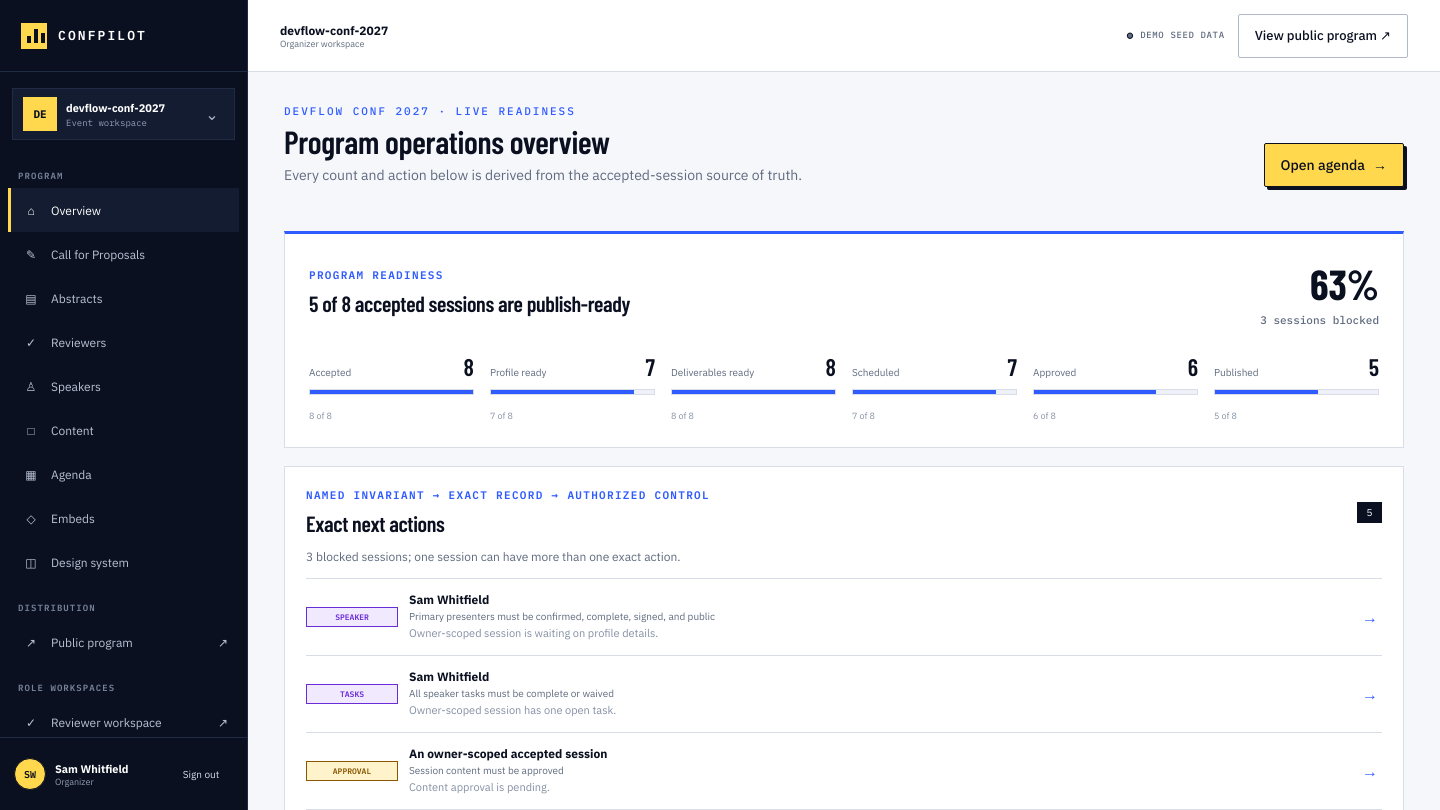
Test: ConfPilot Phase 0 shell › keeps the organizer shell mounted when a sidebar link changes the content panel
Expected: the heading "Program operations overview" is shown, [284, 122, 610, 160]
Click the link "▦ Agenda" at (58,474), box [25, 466, 92, 482]
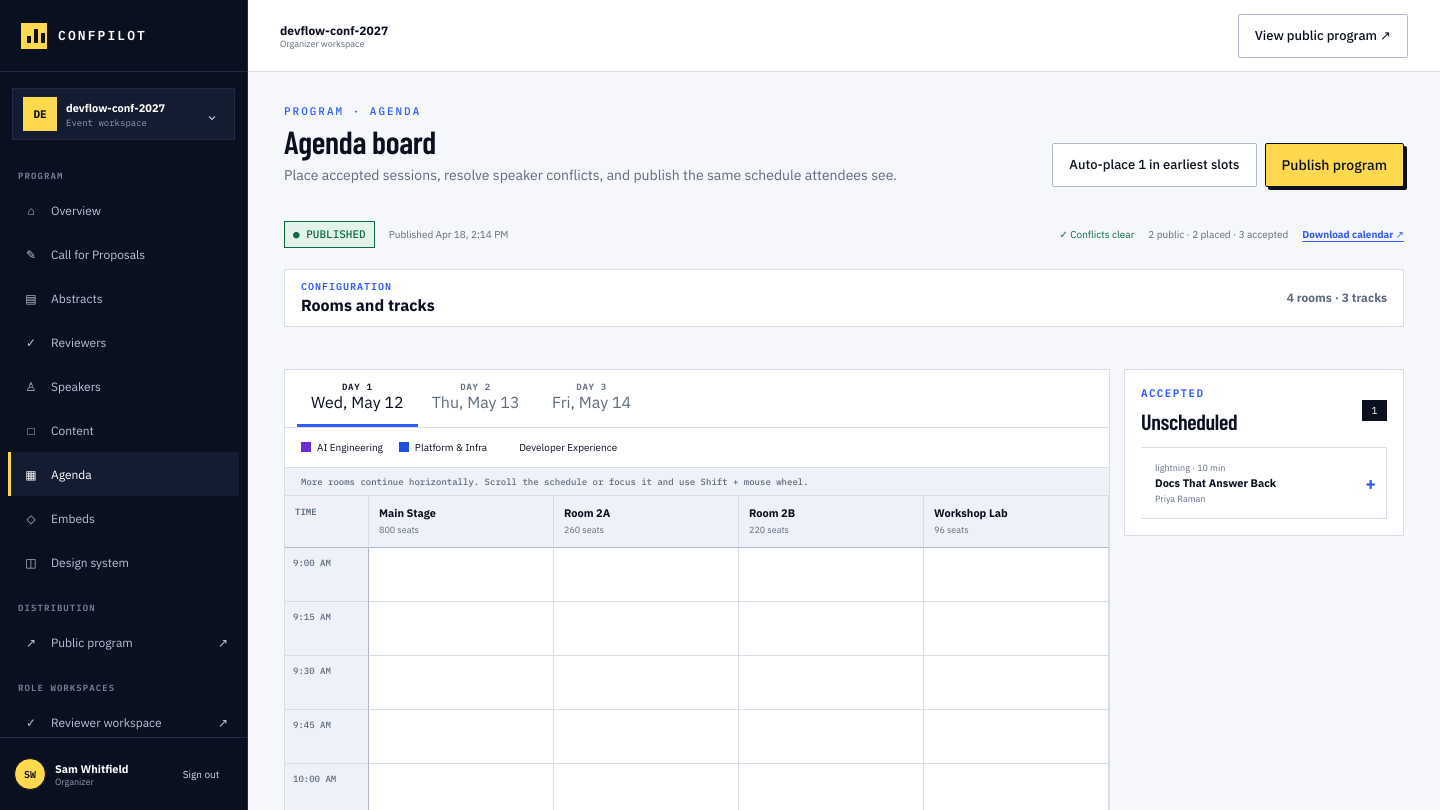
Expected: the text "Organizer workspace" is shown, [280, 38, 364, 48]
Expected: the heading "Agenda board" is shown, [284, 122, 436, 160]
